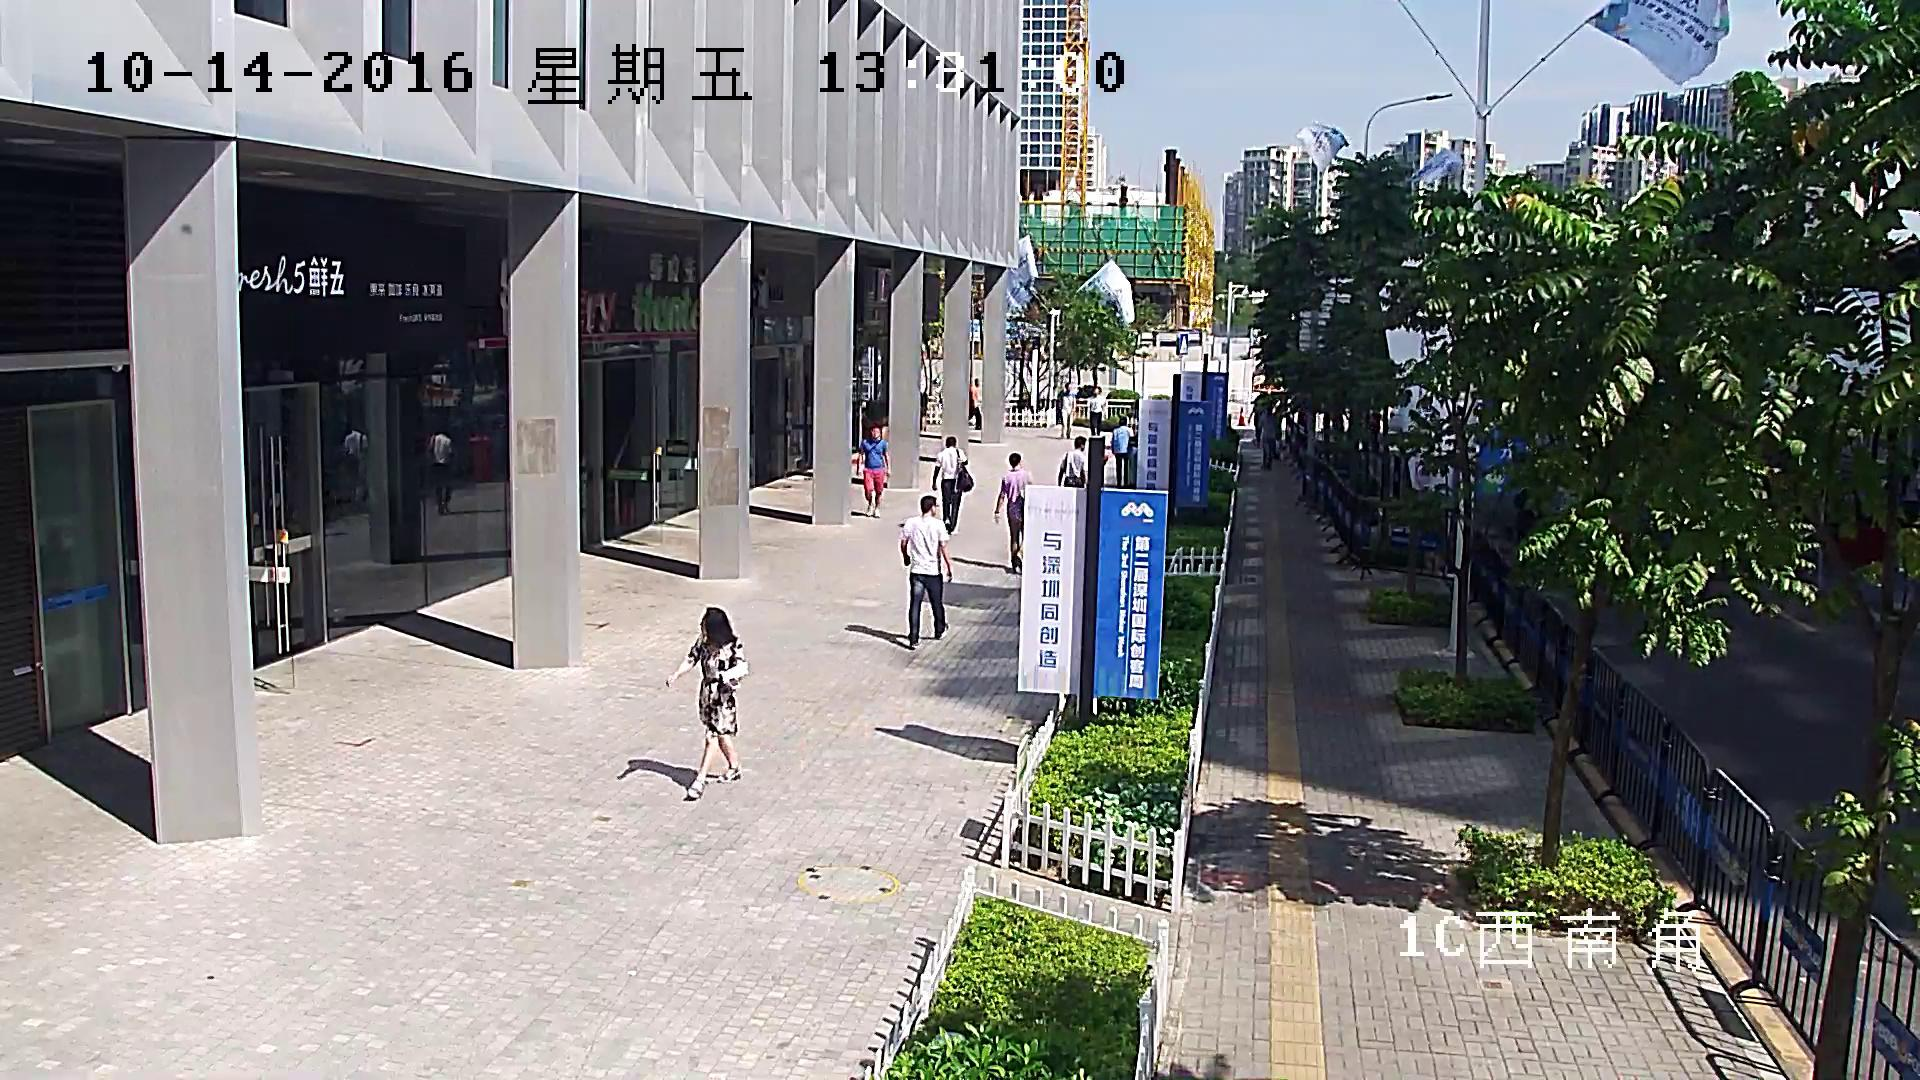person: (663, 607, 750, 800), (899, 495, 952, 651), (992, 452, 1038, 573), (931, 434, 973, 534), (856, 424, 890, 519), (421, 423, 454, 515), (343, 419, 369, 496), (1058, 436, 1090, 488), (1110, 415, 1134, 486), (1256, 402, 1280, 470), (1057, 381, 1076, 439), (1088, 385, 1107, 437), (967, 376, 983, 429)
